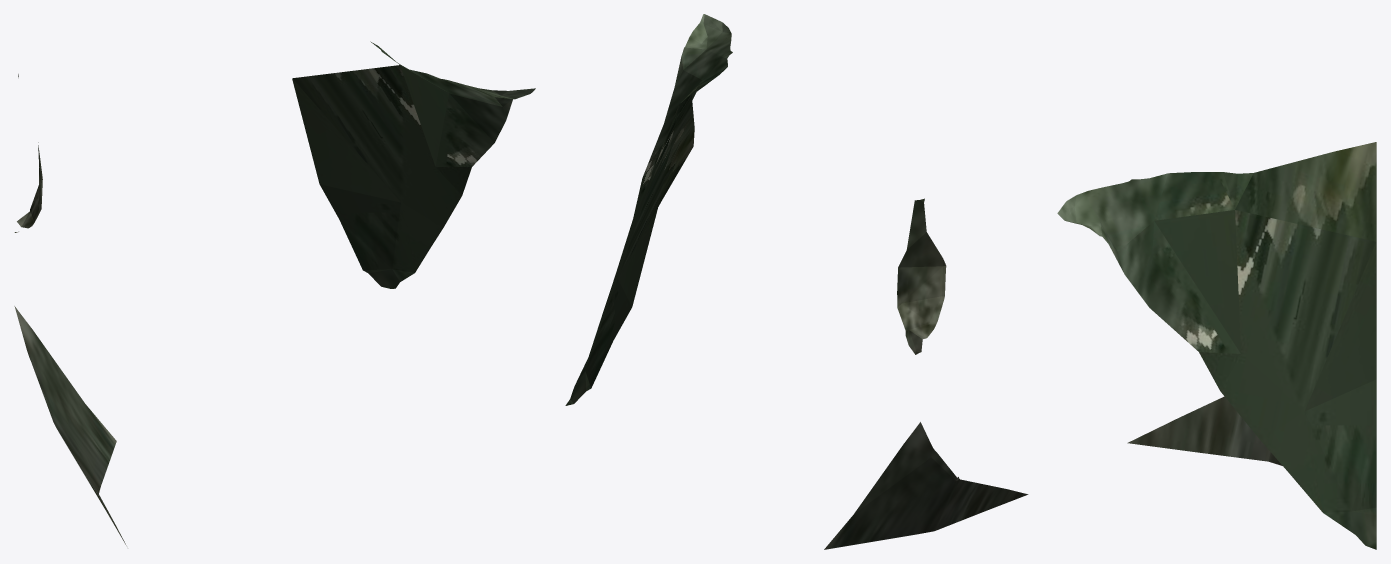
The picture shows the model from 3 angles, left to right: view 1: azimuth 30°, elevation 25°; view 2: azimuth 150°, elevation 25°; view 3: azimuth 270°, elevation 25°; orthographic projection. The views are drawn at different scales.
Size of the model in its own units: 2.95 by 2.95 by 1.99.
2 materials, 2 textured.
